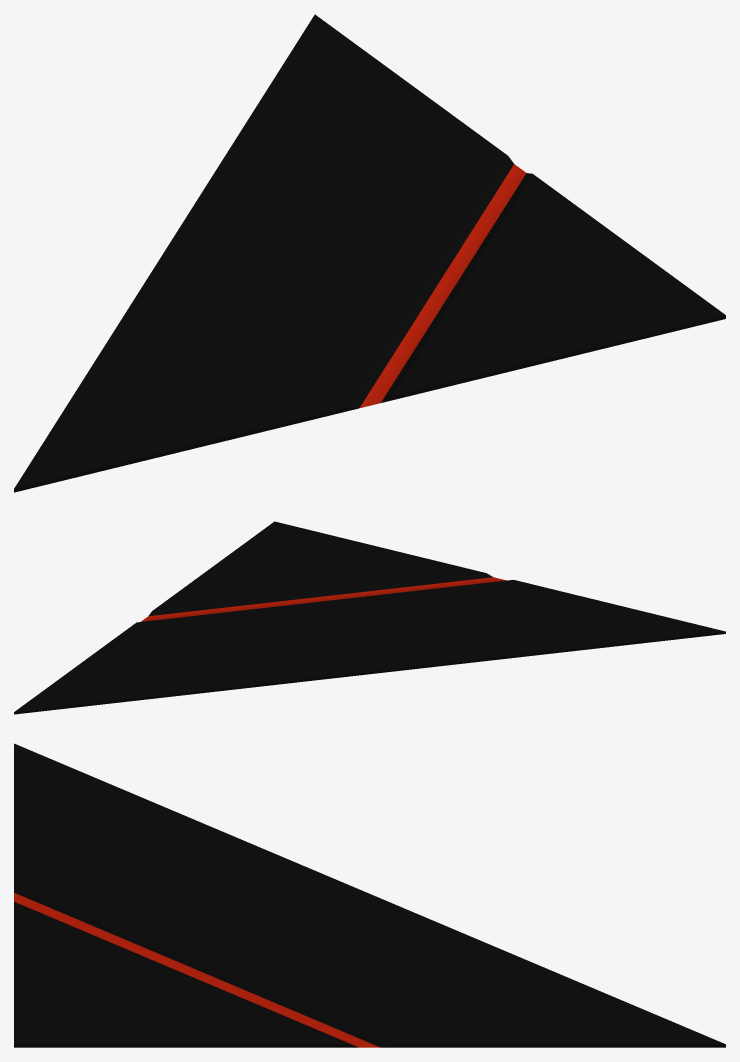
Rendered from S_assete_basement_floor_5.fbx.
3 renders of one model, top to bottom at view 1: azimuth 30°, elevation 25°; view 2: azimuth 150°, elevation 25°; view 3: azimuth 270°, elevation 25°, orthographic. The views are drawn at different scales.
Parts seen in each view (by area): view 1: S_basement_floor_4; view 2: S_basement_floor_4; view 3: S_basement_floor_4.
Boxes of the visible parts, x1,y1,x2,y2 form: S_basement_floor_4: [14, 14, 725, 492]; S_basement_floor_4: [14, 521, 725, 714]; S_basement_floor_4: [14, 743, 725, 1047].
Size of the model in its own units: 200 by 1 by 200.
